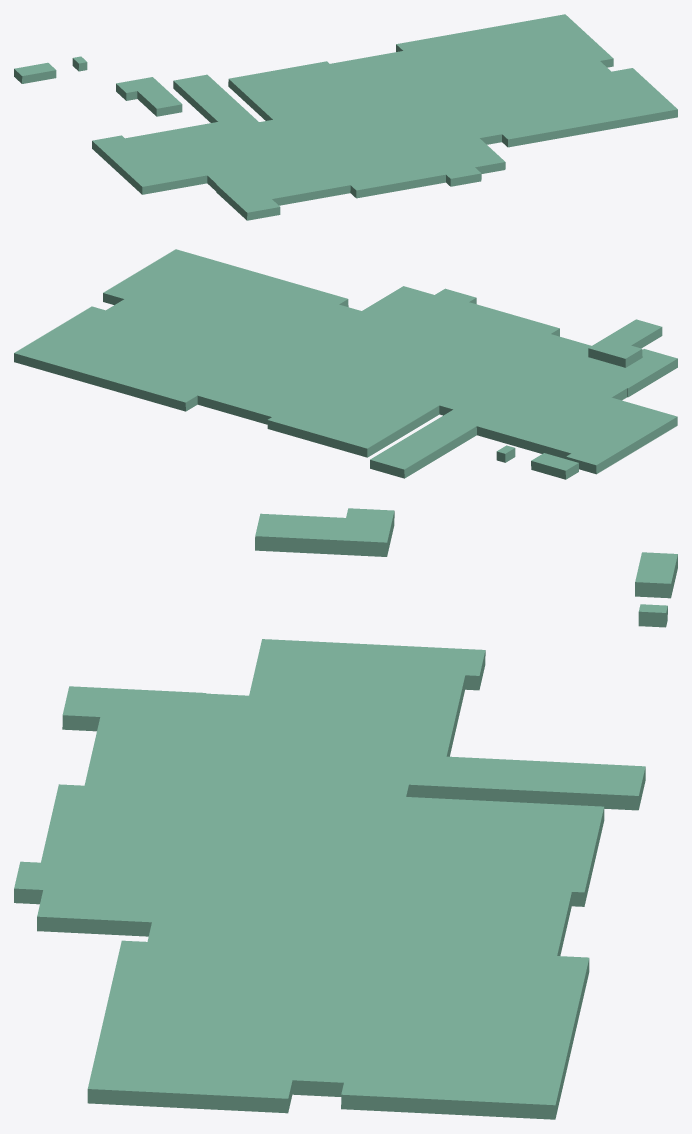
File: magok1-floor.glb
3 renders of one model, top to bottom at view 1: azimuth 30°, elevation 25°; view 2: azimuth 150°, elevation 25°; view 3: azimuth 270°, elevation 25°, orthographic. The views are drawn at different scales.
Parts seen in each view (by area): view 1: magok1-floor; view 2: magok1-floor; view 3: magok1-floor.
Boxes of the visible parts, x1=… form: magok1-floor: x1=14, y1=14, x2=677, y2=220; magok1-floor: x1=14, y1=249, x2=677, y2=479; magok1-floor: x1=14, y1=508, x2=677, y2=1119.
Bounding box in the file's own units: 1.21 × 0.2041 × 0.7312.
